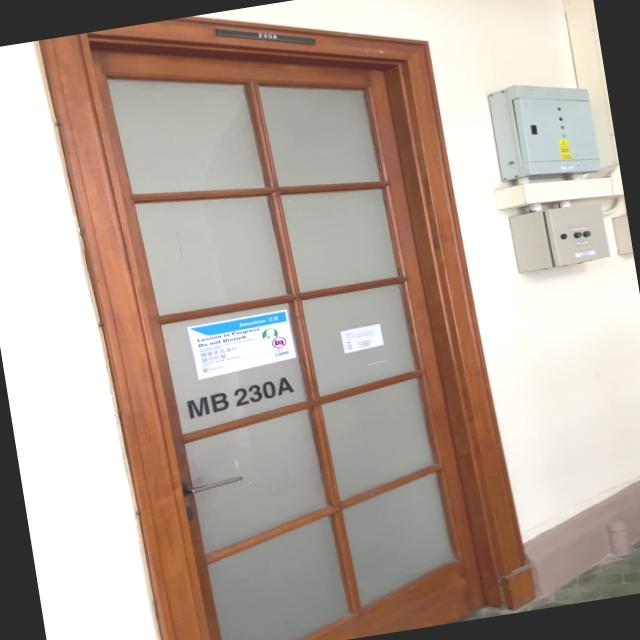room230A: (216, 12, 317, 60)
room230AWindow: (181, 372, 299, 423)
